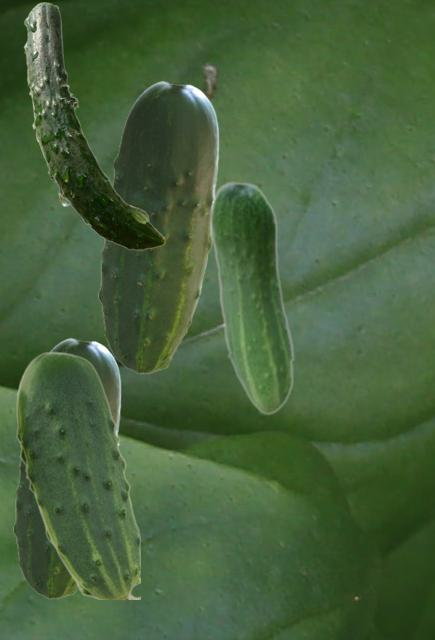cucumber: (98, 81, 218, 373), (23, 2, 164, 249), (16, 351, 139, 598), (13, 338, 120, 598), (209, 180, 294, 414)
